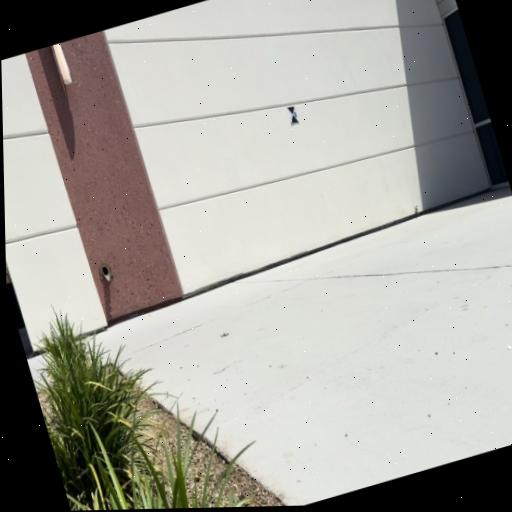target0: (285, 103, 300, 125)
